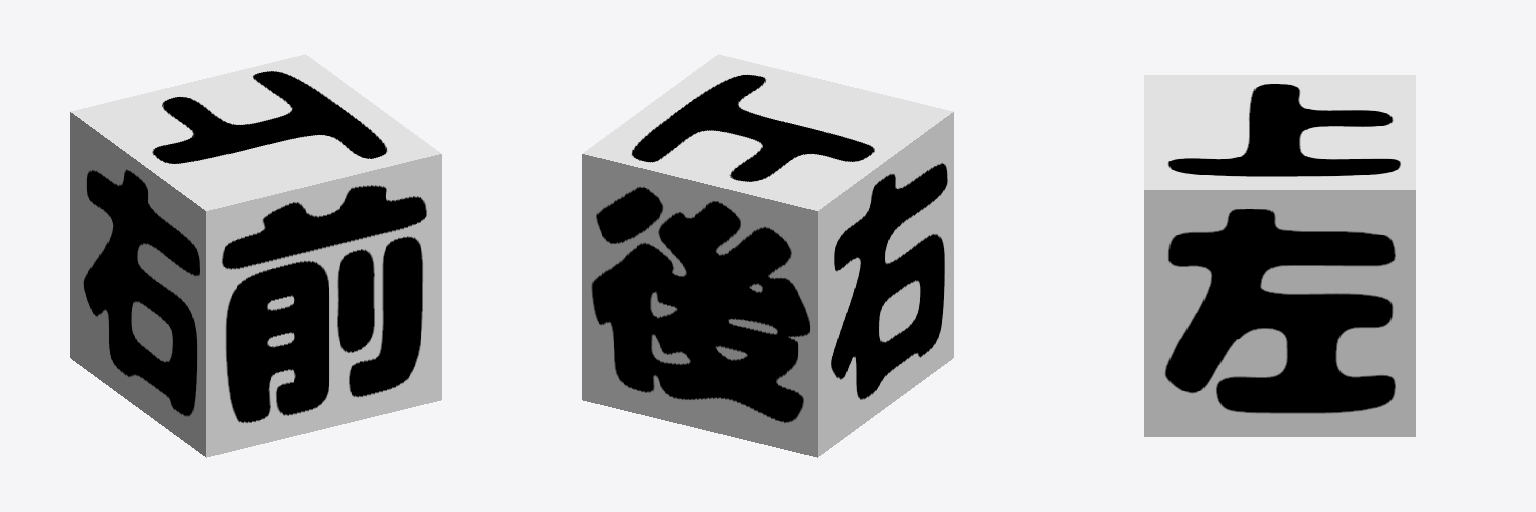
3 renders of one model, left to right at view 1: azimuth 30°, elevation 25°; view 2: azimuth 150°, elevation 25°; view 3: azimuth 270°, elevation 25°, orthographic.
Parts seen in each view (by area): view 1: Cube; view 2: Cube; view 3: Cube.
Part boxes in pixels (x1,y1,x2,y2): Cube: (70, 54, 441, 457); Cube: (582, 54, 953, 457); Cube: (1144, 75, 1415, 436).
Size of the model in its own units: 2 by 2 by 2.
1 materials, 1 textured.